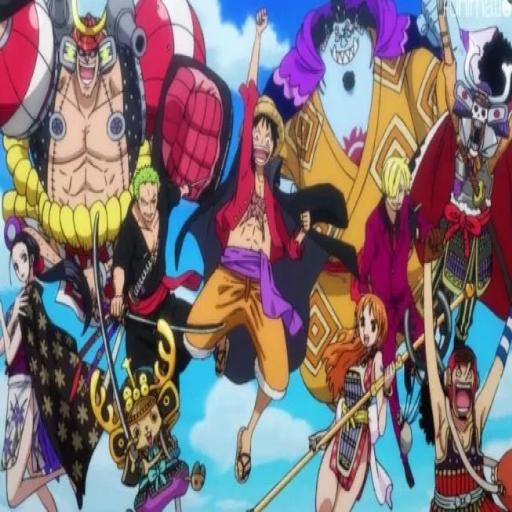Luffy: (188, 12, 315, 498)
Nami: (317, 288, 406, 512)
NicoRobin: (0, 219, 81, 511)
Usopp: (418, 287, 512, 512)
Zoro: (87, 138, 185, 436)
sanji: (350, 144, 424, 291)
